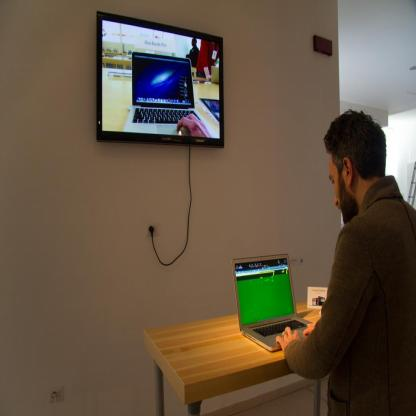board: (123, 53, 219, 137), (235, 261, 308, 356)
